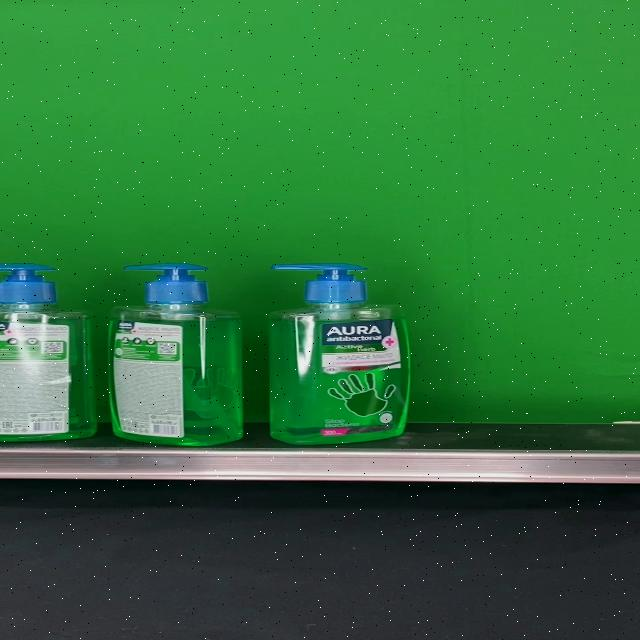Bottle: (269, 262, 411, 444), (109, 263, 244, 447)
Cap: (272, 262, 368, 304), (121, 263, 210, 305)
